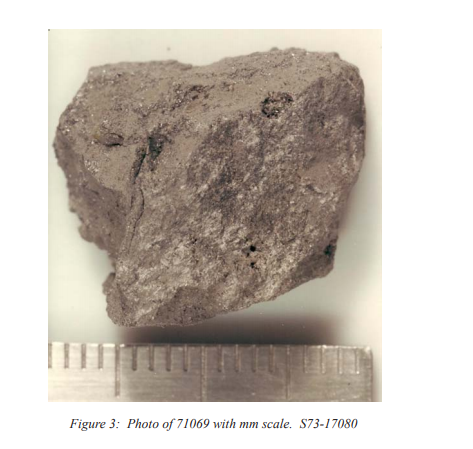Basalt: (51, 43, 380, 333)
